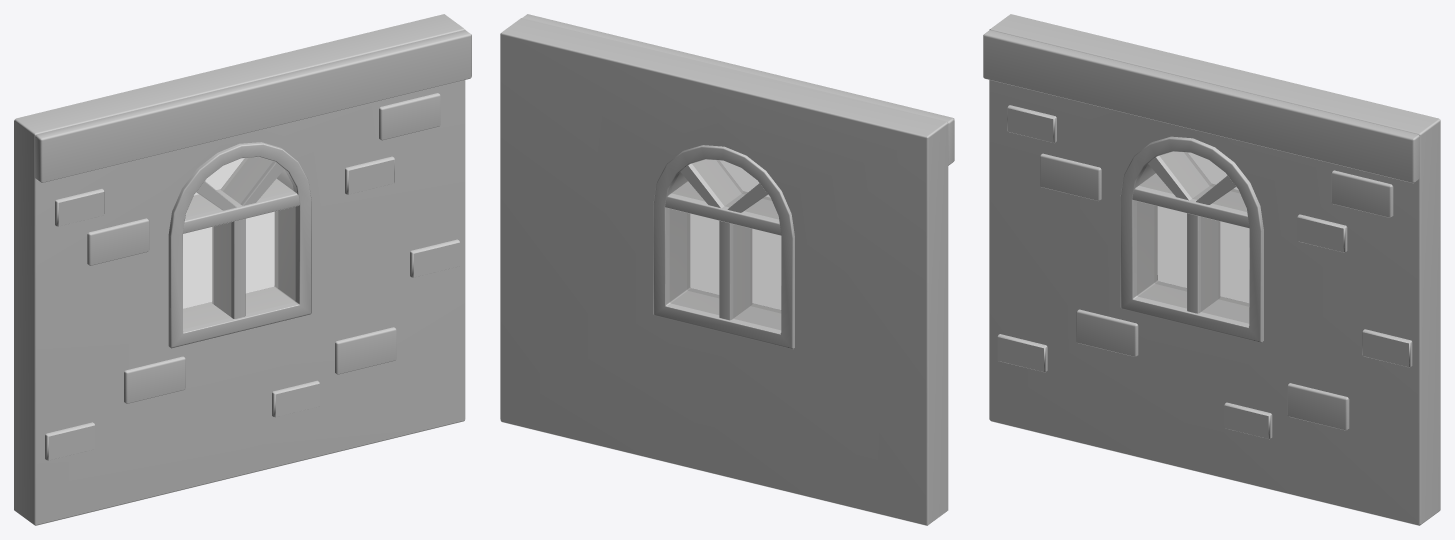
Rendered from Wall_70.fbx.
3 renders of one model, left to right at view 1: azimuth 30°, elevation 25°; view 2: azimuth 150°, elevation 25°; view 3: azimuth 330°, elevation 25°, orthographic.
Visible parts, largest first — view 1: Wall_70; view 2: Wall_70; view 3: Wall_70.
Boxes of the visible parts, x1,y1,x2,y2 form: Wall_70: (14, 14, 471, 525); Wall_70: (500, 14, 954, 525); Wall_70: (983, 14, 1440, 525).
Size of the model in its own units: 460 by 400 by 55.18.
